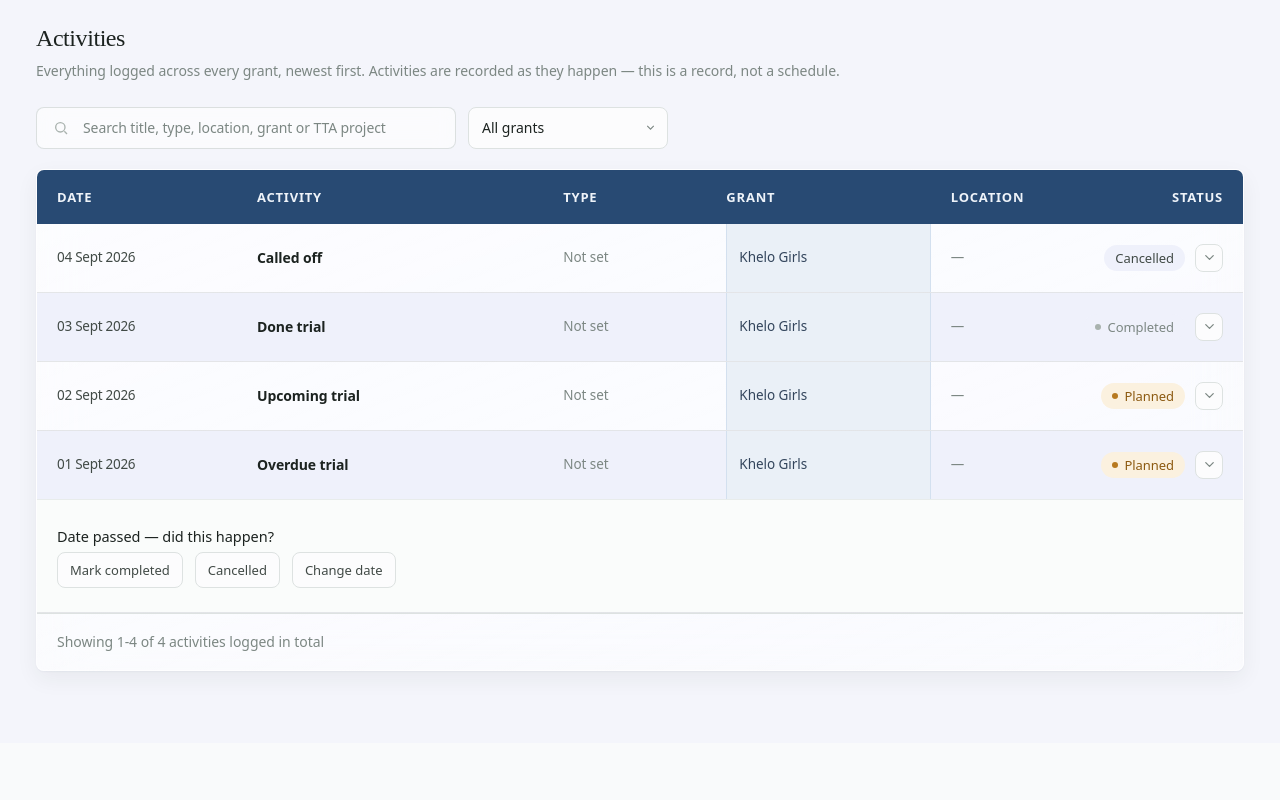
Test: Cancelled saves the status alone, then re-reads the list
expect the text "Overdue trial" is shown: met, box left=257, top=455, right=348, bottom=474
Click the button "Cancelled" at [237, 570], box left=195, top=552, right=280, bottom=588
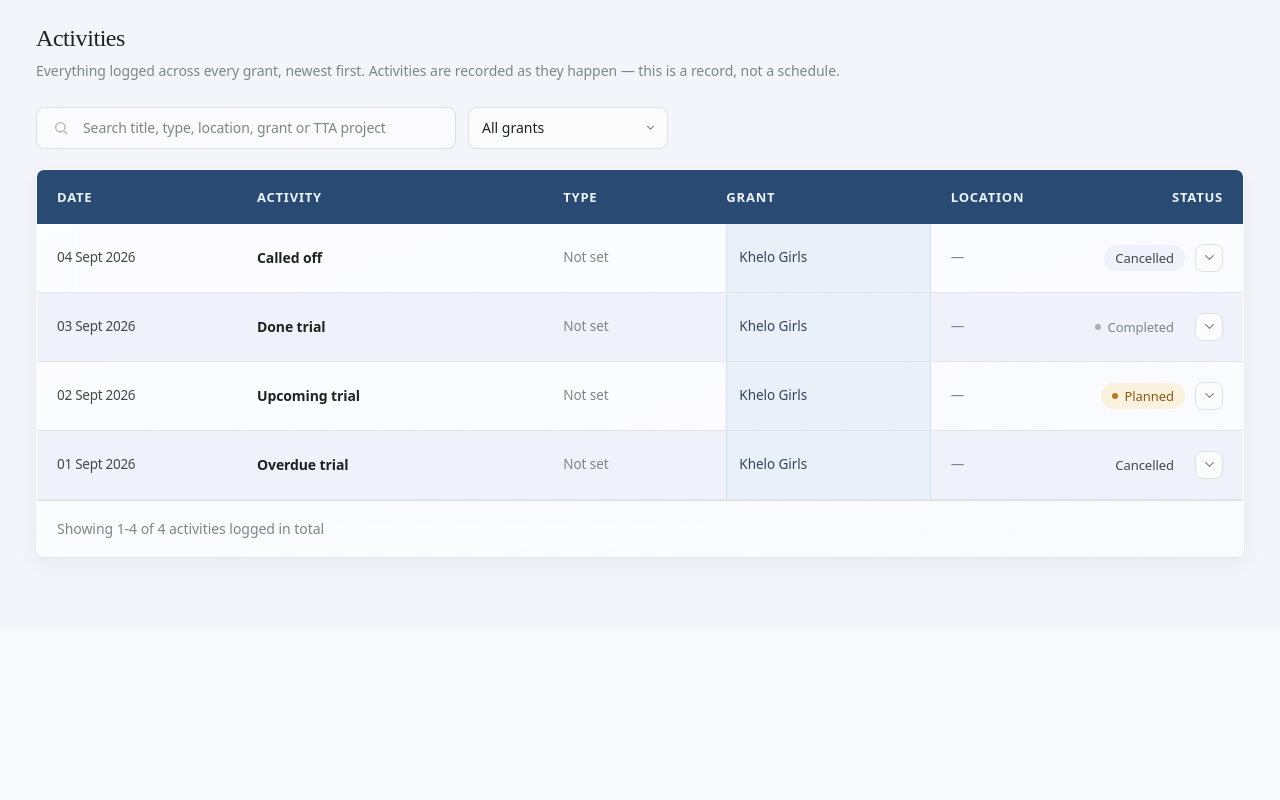
expect the text "Date passed — did this happen?" is gone: met
